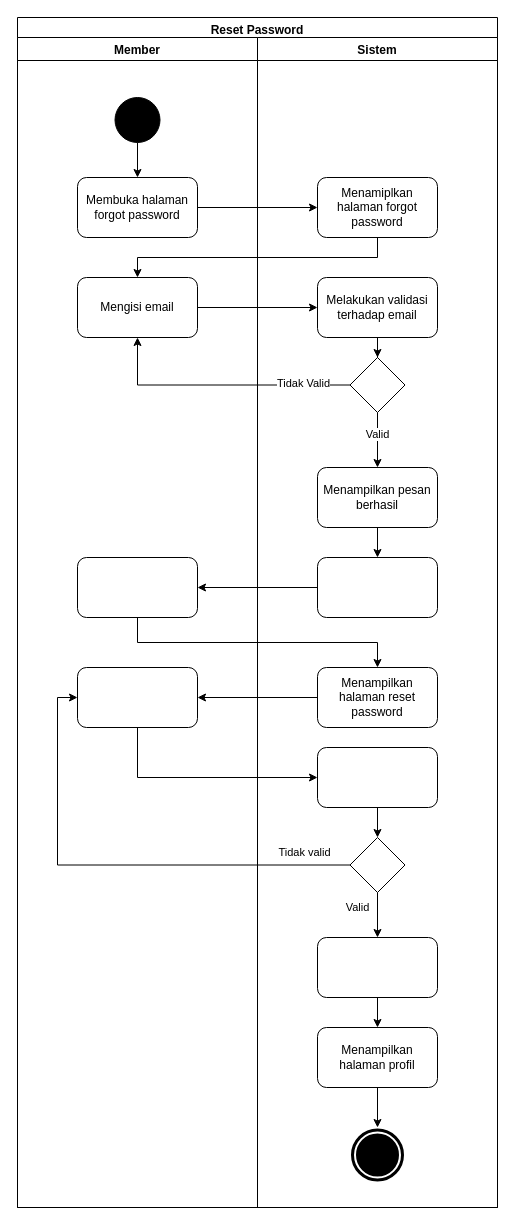
Image size: 515x1225. Some labels were removed from this diagram. The shapes that lost their labels are listed below. From the top down, each one's centre as x and y in pixels, then its label:
the point at 137,587: Membuka link reset password pada email
the point at 377,587: Mengirim link reset password ke email yang ditulis
the point at 137,697: Mengisi password baru
the point at 377,777: Melakukan validasi terhadap password
the point at 377,967: Menyimpan perubahan password
